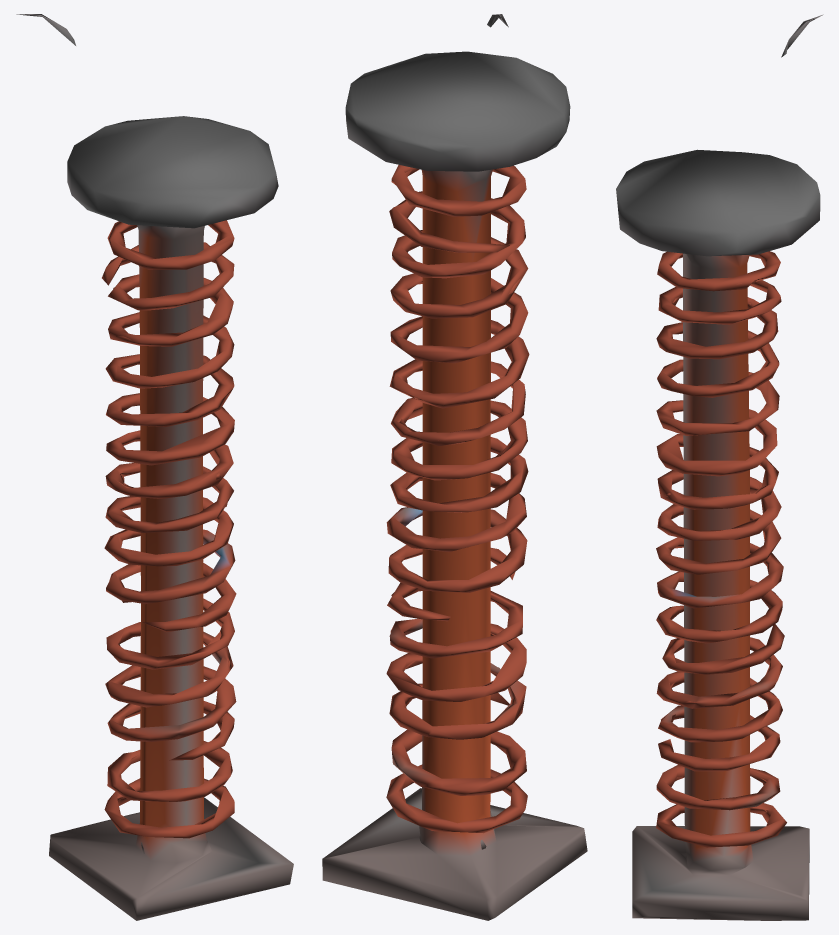
Rendered from gen3d-tesla-coil-lod1.glb.
3 views of the same model, side by side, from view 1: azimuth 30°, elevation 25°; view 2: azimuth 150°, elevation 25°; view 3: azimuth 270°, elevation 25° (orthographic). The views are drawn at different scales.
Visible parts, largest first — view 1: part_0; view 2: part_0; view 3: part_0.
Boxes of the visible parts, <box> form: part_0: <box>16,14,293,920</box>; part_0: <box>322,14,587,920</box>; part_0: <box>616,14,823,920</box>.
Bounding box in the file's own units: 0.2402 × 0.9939 × 0.2291.
